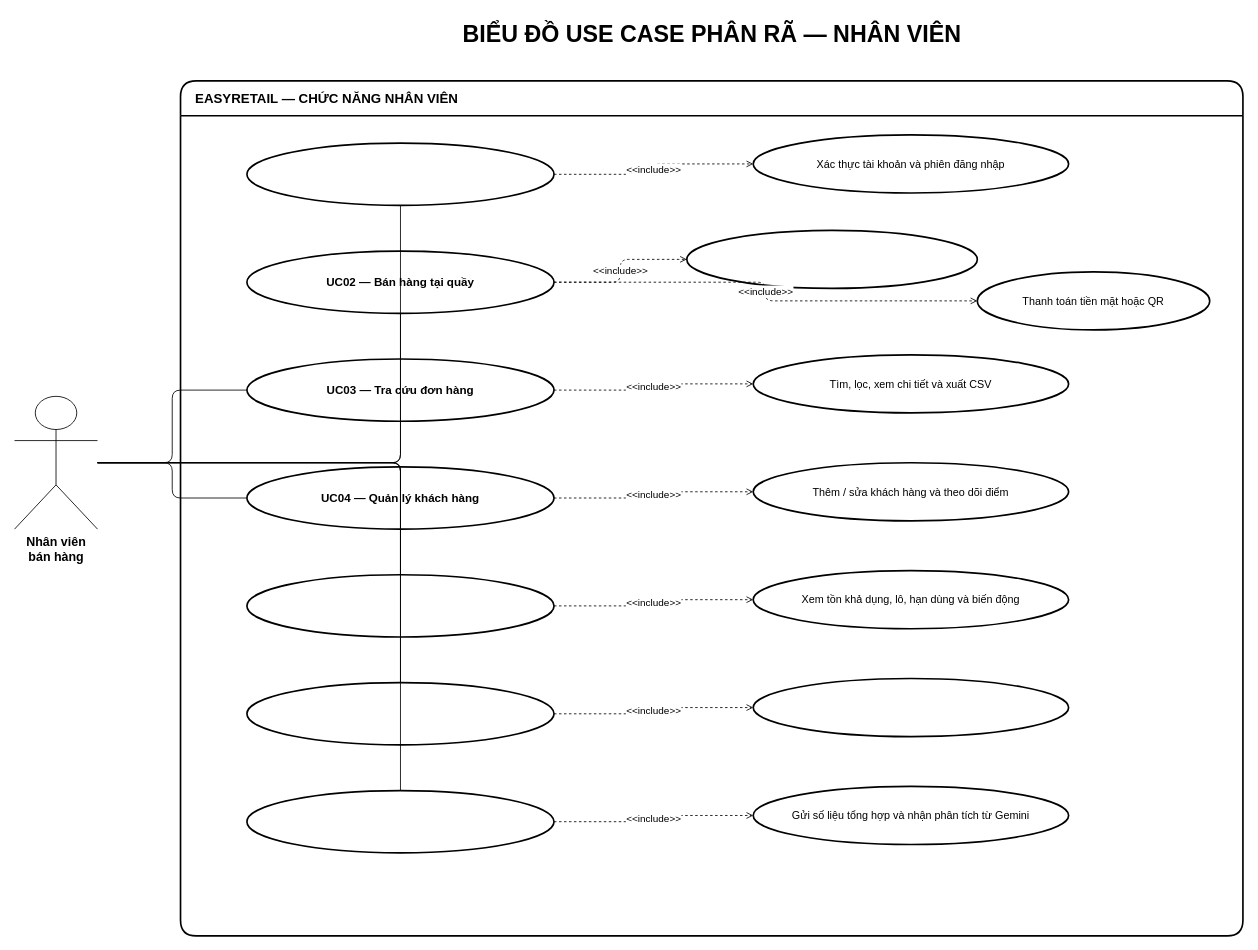
Some shapes in this 1258 by 950 pixel diagram are drawn without their labels. Here are the shapes that lost their labels. From the top down, the box of each, then its label:
(246, 142, 554, 206): UC01 — Đăng nhập / đăng xuất
(686, 229, 978, 289): Quét / tìm sản phẩm và quản lý giỏ
(246, 574, 554, 637): UC05 — Xem tồn kho và lô hàng
(246, 681, 554, 745): UC06 — Xem dashboard và cảnh báo
(752, 677, 1069, 737): Doanh thu, lợi nhuận, hàng bán chạy và cảnh báo
(246, 789, 554, 853): UC07 — Hỏi cố vấn kinh doanh AI
